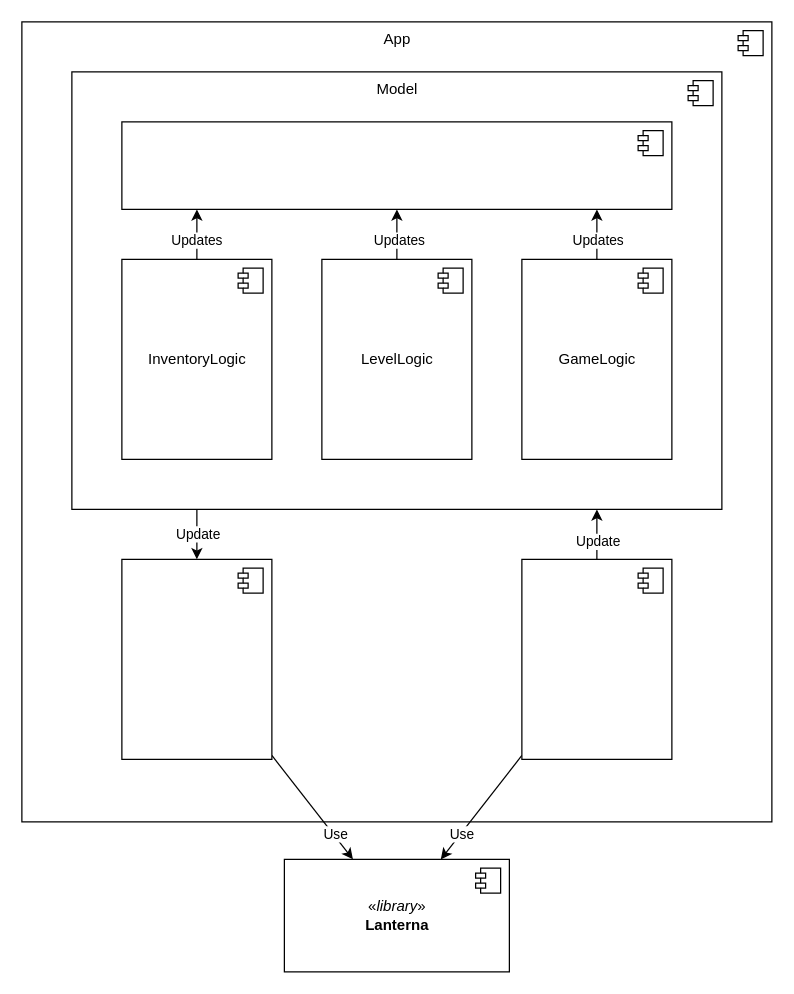
The diagram is 794 pixels wide and 994 high, and some of its shapes have lost their labels. The shapes that lost their labels are listed below. From the top down, each one's centre as x and y in pixels, then its label:
At point (396, 165): "« Blackboard » State".
At point (196, 658): "LanternaView".
At point (596, 658): "Controller".
